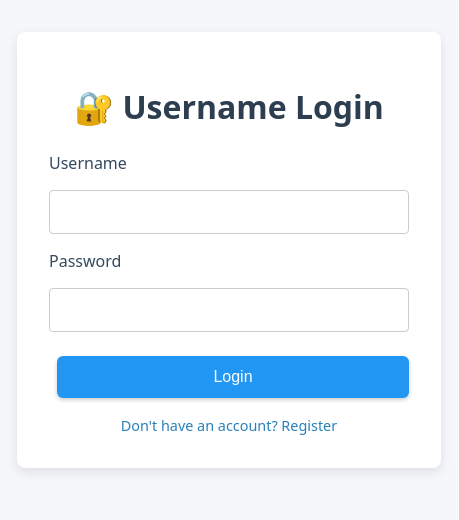
it: LoginPage Component › handles network error
Type "testuser" into the field labelled "Username".
click(229, 212); type("testuser")  # box [49,190,409,234]
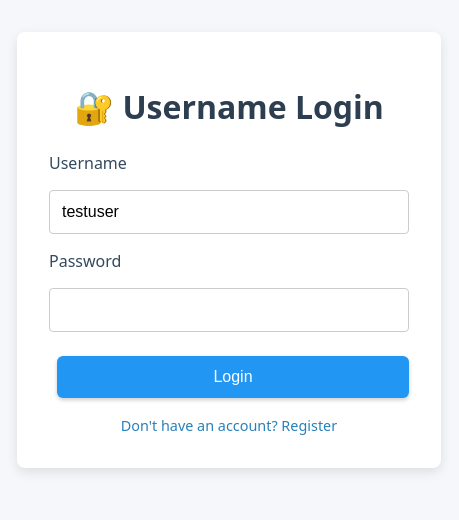
Type "password123" into the password field labelled "Password".
click(229, 310); type("password123")  # box [49,288,409,332]
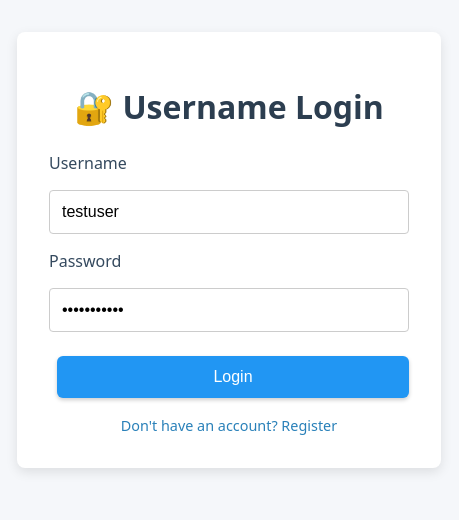
Click the button "Login".
click(233, 377)  # box [57,356,409,398]
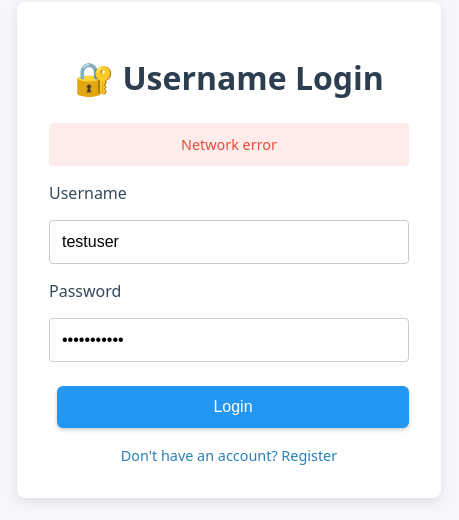
Expected: the text "Network error" is shown, [49,123,409,166]
